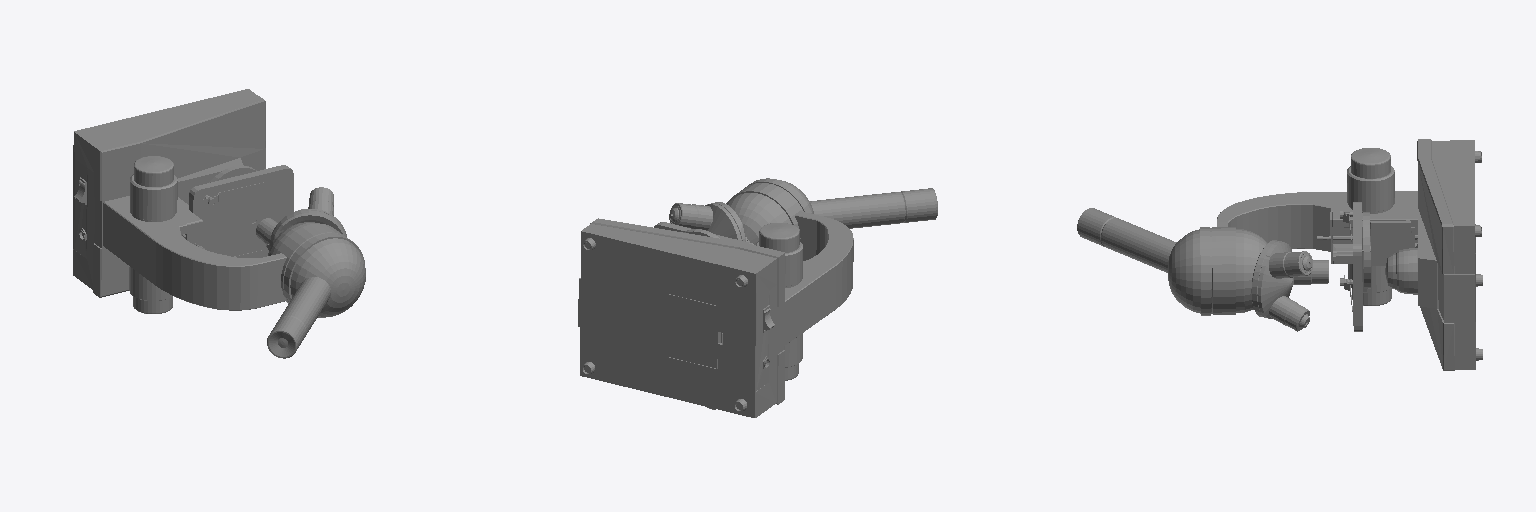
File: microscope.obj
3 renders of one model, left to right at view 1: azimuth 30°, elevation 25°; view 2: azimuth 150°, elevation 25°; view 3: azimuth 270°, elevation 25°, orthographic.
Parts seen in each view (by area): view 1: Microscope; view 2: Microscope; view 3: Microscope.
Part boxes in pixels (x1,y1,x2,y2): Microscope: (73, 89, 365, 358); Microscope: (578, 178, 937, 417); Microscope: (1077, 139, 1482, 370).
Size of the model in its own units: 39.09 by 30.66 by 74.71.